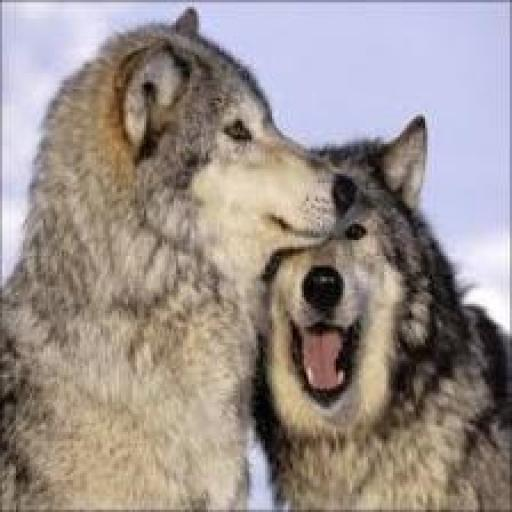wolf: (0, 11, 361, 512), (237, 116, 512, 512)
